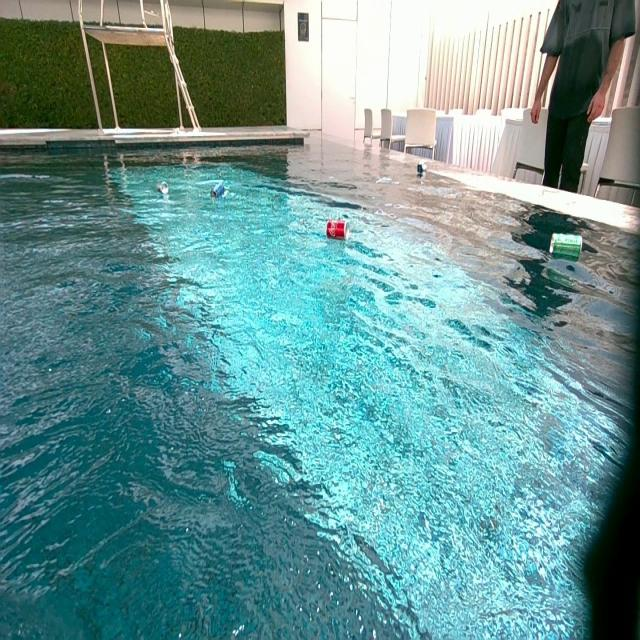Cans: (550, 232, 584, 261), (328, 221, 349, 242), (210, 181, 227, 200), (159, 182, 170, 196), (418, 162, 427, 173)
